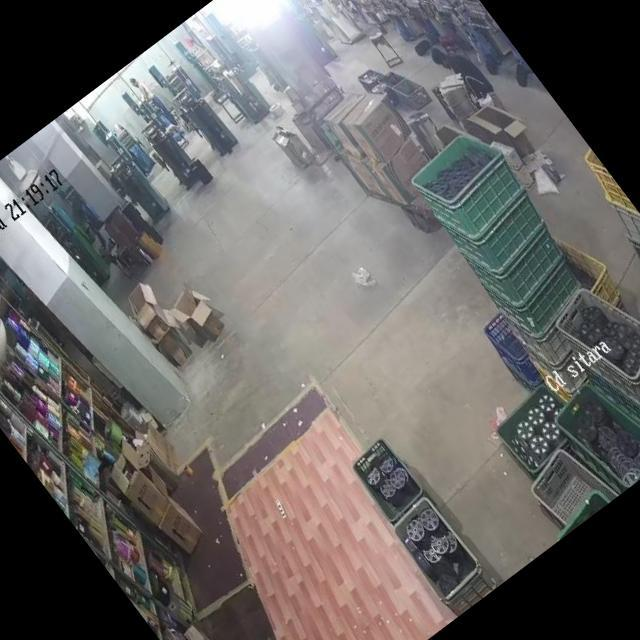person: (425, 30, 498, 111), (126, 70, 182, 136)
